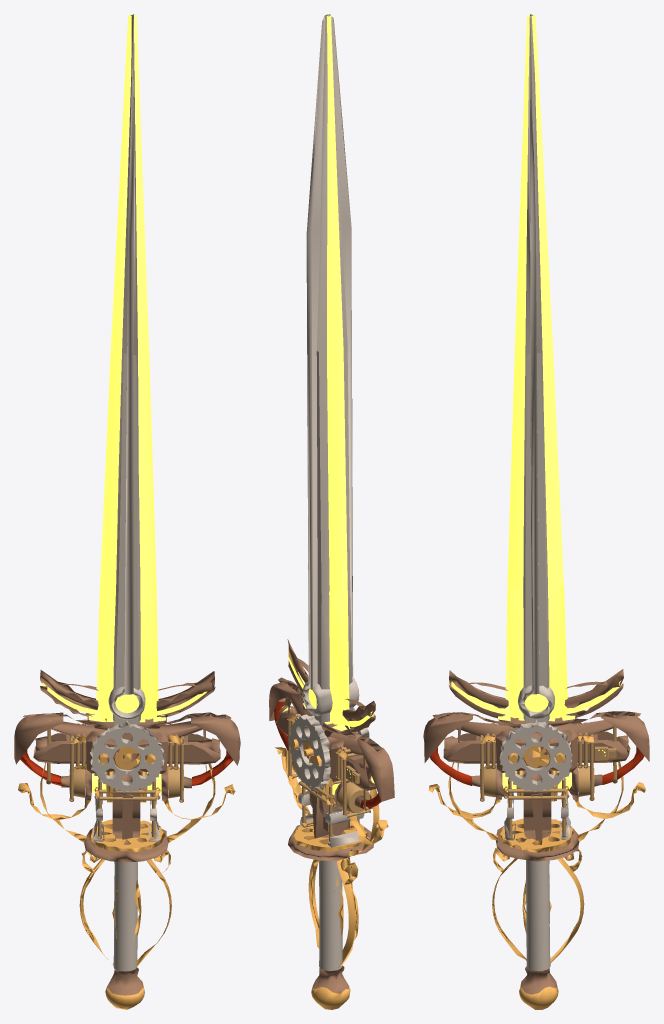
File: sword_2.glb
The picture shows the model from 3 angles, left to right: view 1: azimuth 90°, elevation 25°; view 2: azimuth 210°, elevation 25°; view 3: azimuth 270°, elevation 25°; orthographic projection.
Visible parts, largest first — view 1: Sword_2; view 2: Sword_2; view 3: Sword_2.
Part boxes in pixels (x1,y1,x2,y2): Sword_2: (14,14,240,1009); Sword_2: (269,14,394,1009); Sword_2: (423,14,649,1009).
Bounding box in the file's own units: 0.1234 × 1.55 × 0.3194.
